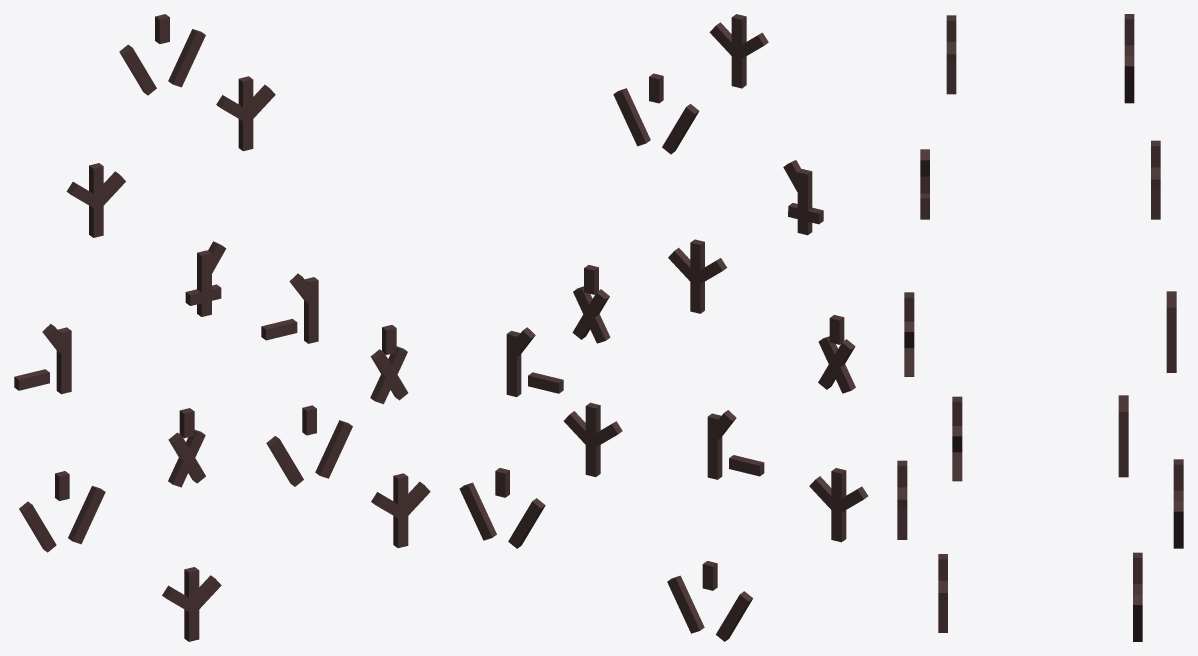
Rendered from obelisk_warped_runes.obj.
The picture shows the model from 3 angles, left to right: view 1: azimuth 30°, elevation 25°; view 2: azimuth 150°, elevation 25°; view 3: azimuth 270°, elevation 25°; orthographic projection. The views are drawn at different scales.
Visible parts, largest first — view 1: obelisk_warped_runes_18, obelisk_warped_runes_24, obelisk_warped_runes_0, obelisk_warped_runes_9, obelisk_warped_runes_22, obelisk_warped_runes_28, obelisk_warped_runes_4, obelisk_warped_runes_15, obelisk_warped_runes_12, obelisk_warped_runes_33, obelisk_warped_runes_6, obelisk_warped_runes_21 (+5 smaller); view 2: obelisk_warped_runes_0, obelisk_warped_runes_24, obelisk_warped_runes_15, obelisk_warped_runes_18, obelisk_warped_runes_28, obelisk_warped_runes_22, obelisk_warped_runes_4, obelisk_warped_runes_9, obelisk_warped_runes_33, obelisk_warped_runes_12, obelisk_warped_runes_30, obelisk_warped_runes_21 (+5 smaller); view 3: obelisk_warped_runes_33, obelisk_warped_runes_9, obelisk_warped_runes_0, obelisk_warped_runes_18, obelisk_warped_runes_15, obelisk_warped_runes_24, obelisk_warped_runes_4, obelisk_warped_runes_22, obelisk_warped_runes_28.
Part boxes in pixels (<box>): obelisk_warped_runes_18: <box>238,76,253,151</box>; obelisk_warped_runes_24: <box>393,473,408,548</box>; obelisk_warped_runes_0: <box>184,567,199,641</box>; obelisk_warped_runes_9: <box>56,327,71,394</box>; obelisk_warped_runes_22: <box>168,29,205,87</box>; obelisk_warped_runes_28: <box>315,420,352,478</box>; obelisk_warped_runes_4: <box>68,486,105,544</box>; obelisk_warped_runes_15: <box>89,163,103,237</box>; obelisk_warped_runes_12: <box>197,250,211,316</box>; obelisk_warped_runes_33: <box>304,277,318,343</box>; obelisk_warped_runes_6: <box>168,430,205,487</box>; obelisk_warped_runes_21: <box>119,44,156,95</box>; obelisk_warped_runes_0: <box>831,468,846,542</box>; obelisk_warped_runes_24: <box>585,402,600,476</box>; obelisk_warped_runes_15: <box>690,239,704,313</box>; obelisk_warped_runes_18: <box>731,14,746,88</box>; obelisk_warped_runes_28: <box>459,482,496,540</box>; obelisk_warped_runes_22: <box>613,88,650,146</box>; obelisk_warped_runes_4: <box>667,575,704,633</box>; obelisk_warped_runes_9: <box>707,413,722,479</box>; obelisk_warped_runes_33: <box>506,330,521,397</box>; obelisk_warped_runes_12: <box>797,169,812,235</box>; obelisk_warped_runes_30: <box>573,286,610,343</box>; obelisk_warped_runes_21: <box>662,104,699,154</box>; obelisk_warped_runes_33: <box>1118,406,1128,477</box>; obelisk_warped_runes_9: <box>1166,302,1176,372</box>; obelisk_warped_runes_0: <box>897,460,907,539</box>; obelisk_warped_runes_18: <box>946,15,956,94</box>; obelisk_warped_runes_15: <box>1151,140,1160,219</box>; obelisk_warped_runes_24: <box>938,554,947,632</box>; obelisk_warped_runes_4: <box>1173,501,1183,548</box>; obelisk_warped_runes_22: <box>1124,56,1134,103</box>; obelisk_warped_runes_28: <box>1133,595,1142,641</box>.
Size of the model in its own units: 1.39 by 2.2 by 1.02.
